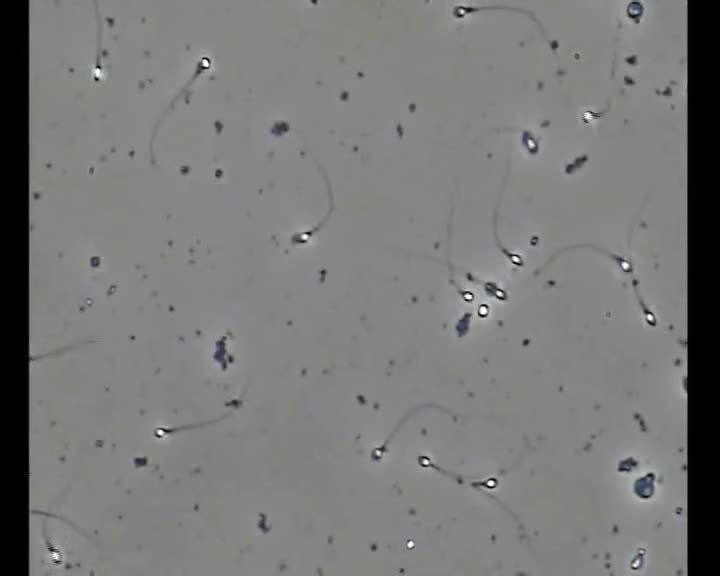spermhead: (521, 130, 538, 154), (194, 55, 213, 75), (626, 0, 643, 22), (291, 229, 311, 244), (92, 63, 106, 83), (452, 5, 473, 18), (585, 113, 600, 129), (616, 257, 632, 272), (370, 445, 385, 460), (644, 309, 656, 326), (154, 427, 171, 438), (508, 253, 522, 266), (417, 455, 431, 467), (483, 477, 497, 489), (461, 291, 473, 304), (494, 287, 506, 300), (478, 304, 489, 317)
